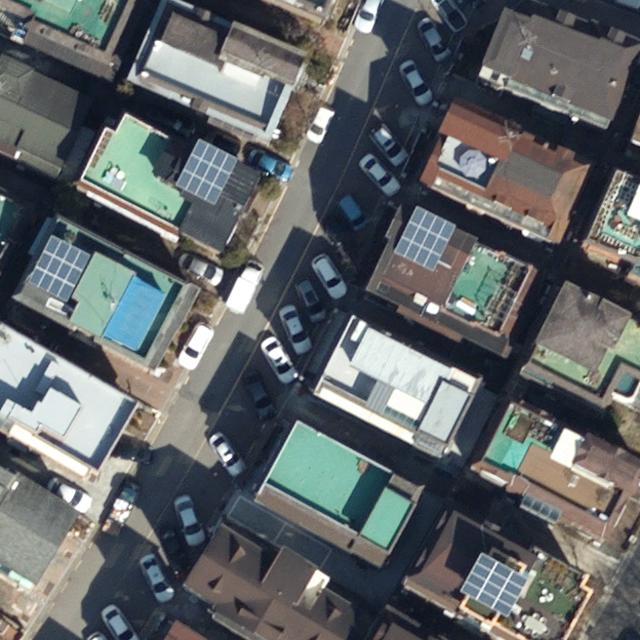panel: (457, 550, 531, 617), (392, 204, 460, 275), (175, 134, 242, 204), (28, 233, 94, 303)
